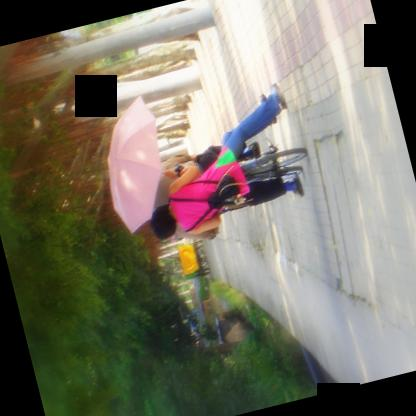backpack: (171, 176, 249, 233)
